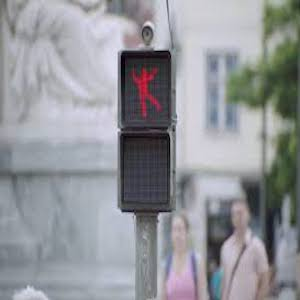red: (123, 63, 167, 123)
